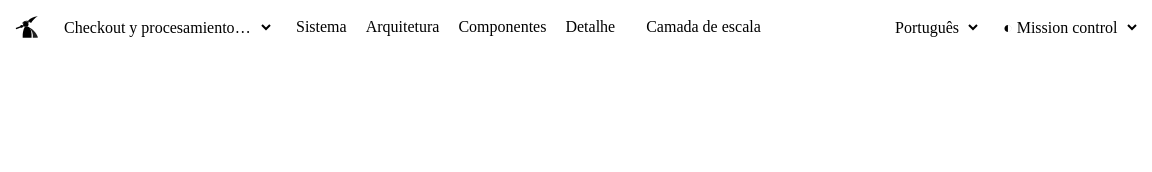
Scenario: TopBar › switches UI language and offers regeneration only when the primary subtag differs
Select "Español" in the dropdown with test id "language-select" at (933, 27), box left=885, top=14, right=981, bottom=40
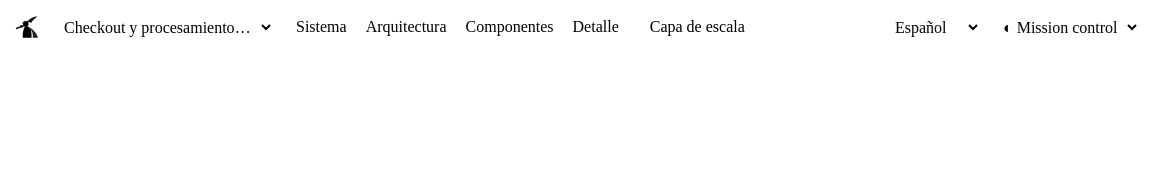
Now the button with test id "level-architecture" reads "Arquitectura", box left=356, top=14, right=457, bottom=40
